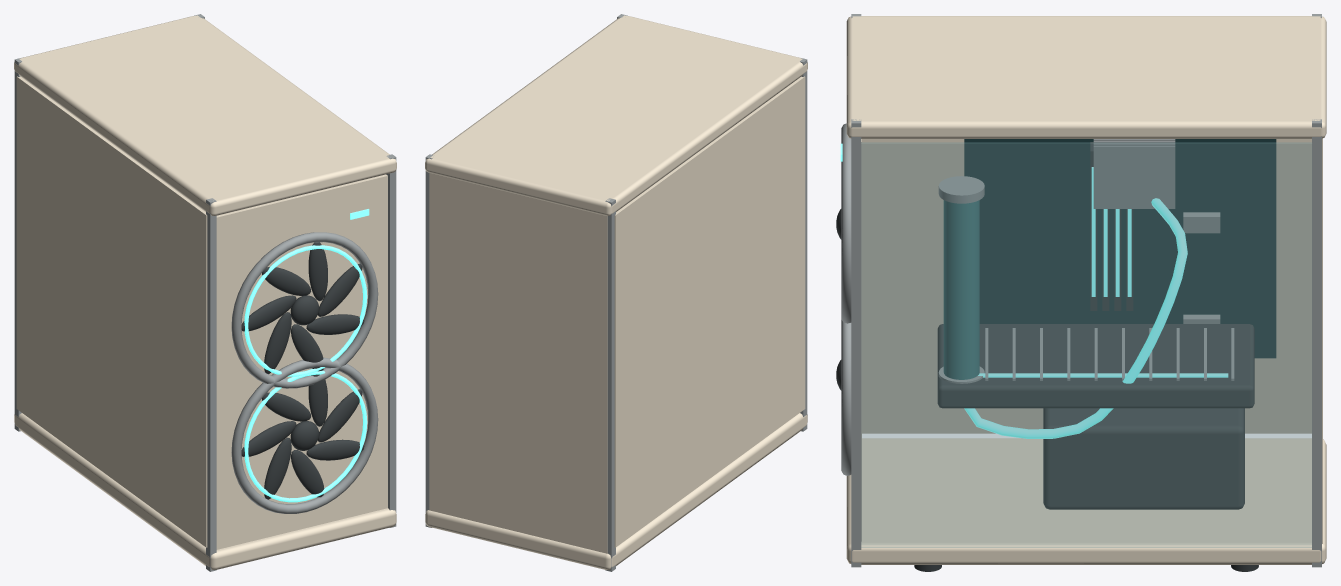
File: pc_case_neon_arc-b4b4f54d34de.glb
3 renders of one model, left to right at view 1: azimuth 30°, elevation 25°; view 2: azimuth 150°, elevation 25°; view 3: azimuth 270°, elevation 25°, orthographic. The views are drawn at different scales.
Visible parts, largest first — view 1: surface_chalk, surface_steel, surface_graphite, surface_cyan; view 2: surface_chalk, surface_steel; view 3: surface_Optical_smoke, surface_chalk, surface_deep, surface_graphite, surface_steel, surface_cyan, surface_lagoon.
Part boxes in pixels (<box>): surface_chalk: <box>14,15,396,569</box>; surface_steel: <box>14,14,396,571</box>; surface_graphite: <box>241,242,364,499</box>; surface_cyan: <box>244,209,369,502</box>; surface_chalk: <box>425,15,807,569</box>; surface_steel: <box>425,14,807,571</box>; surface_Optical_smoke: <box>861,142,1311,547</box>; surface_chalk: <box>846,16,1326,564</box>; surface_deep: <box>964,139,1276,358</box>; surface_graphite: <box>836,142,1254,509</box>; surface_steel: <box>841,14,1321,567</box>; surface_cyan: <box>840,143,1228,438</box>; surface_lagoon: <box>943,200,979,379</box>.
Bounding box in the file's own units: 0.2611 × 0.504 × 0.4901.
